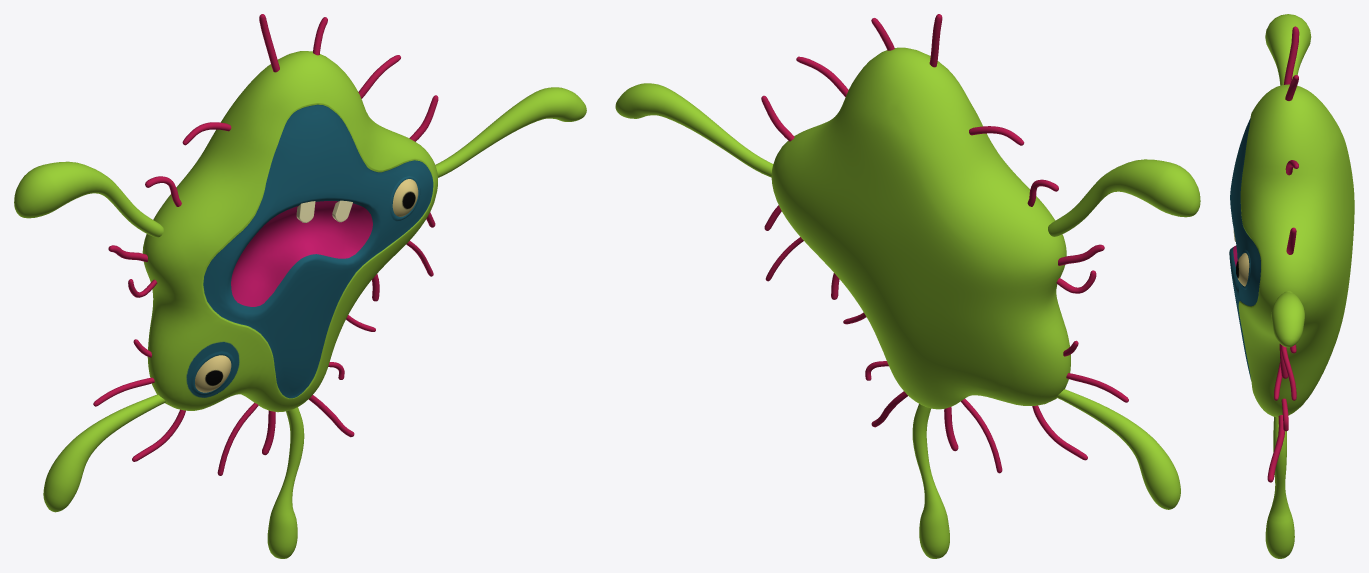
File: virus.fbx
The picture shows the model from 3 angles, left to right: view 1: azimuth 30°, elevation 25°; view 2: azimuth 150°, elevation 25°; view 3: azimuth 270°, elevation 25°; orthographic projection. The views are drawn at different scales.
Visible parts, largest first — view 1: node_id34; view 2: node_id34; view 3: node_id34.
Boxes of the visible parts, <box> form: node_id34: <box>14,14,586,558</box>; node_id34: <box>615,14,1200,558</box>; node_id34: <box>1229,14,1354,558</box>.
Size of the model in its own units: 0.512 by 0.4648 by 0.1004.
1 material, 1 textured.
